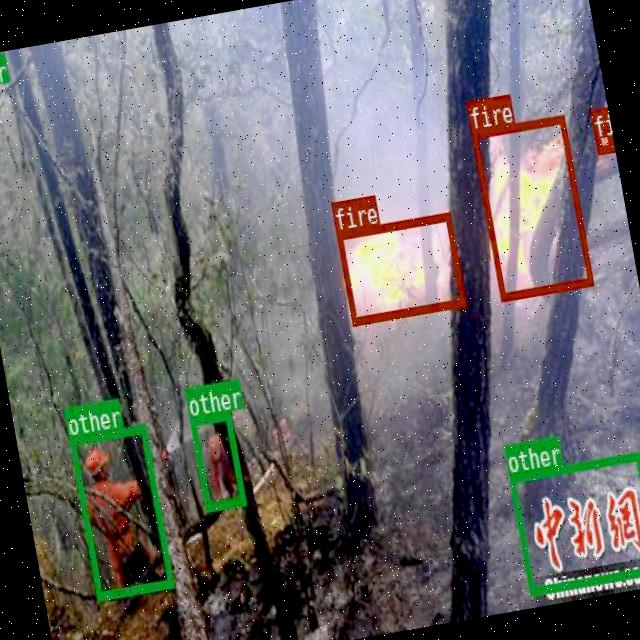fire: (470, 112, 593, 299), (334, 212, 464, 324), (588, 106, 612, 152)
